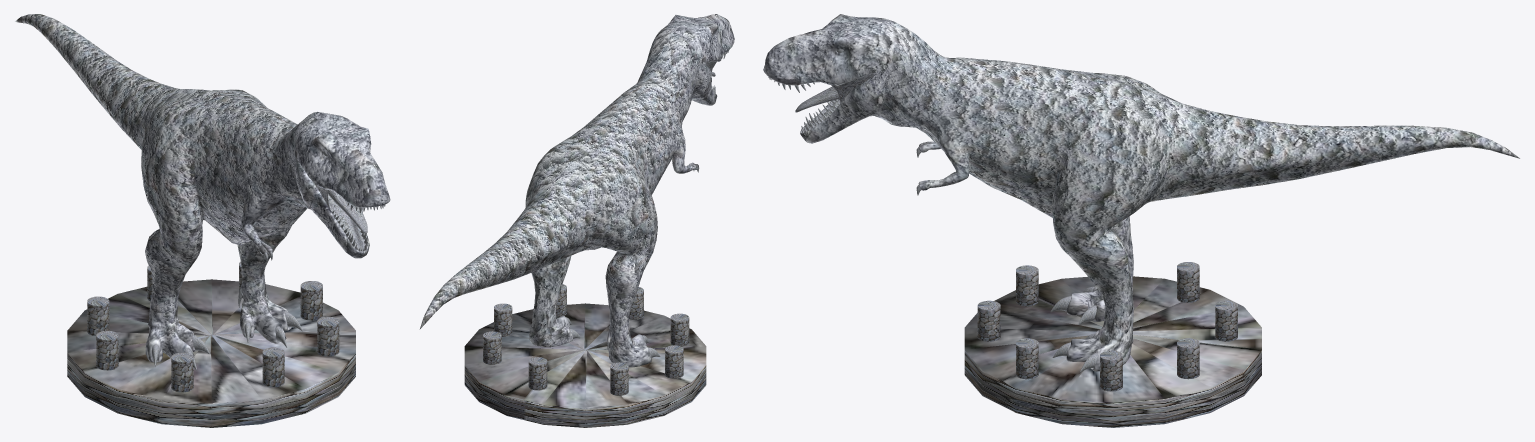
Rendered from escult.obj.
The picture shows the model from 3 angles, left to right: view 1: azimuth 30°, elevation 25°; view 2: azimuth 150°, elevation 25°; view 3: azimuth 270°, elevation 25°; orthographic projection. The views are drawn at different scales.
Parts seen in each view (by area): view 1: Group002, Cylinder012, Cylinder003, Cylinder004, Cylinder010, Cylinder002, Cylinder005, Cylinder011, treeGroup26643, treeGroup23113; view 2: Group002, Cylinder012, Cylinder008, Cylinder004, Cylinder010, Cylinder006, Cylinder011, Cylinder005, Cylinder002; view 3: Group002, Cylinder012, Cylinder002, Cylinder008, Cylinder003, Cylinder005, Cylinder006, Cylinder004, Cylinder011.
Boxes of the visible parts, bbox=[...] form: Group002: bbox=[15, 14, 390, 362]; Cylinder012: bbox=[67, 279, 355, 427]; Cylinder003: bbox=[317, 316, 339, 356]; Cylinder004: bbox=[171, 352, 193, 392]; Cylinder010: bbox=[96, 330, 118, 370]; Cylinder002: bbox=[262, 347, 284, 386]; Cylinder005: bbox=[300, 281, 322, 320]; Cylinder011: bbox=[87, 296, 109, 335]; treeGroup26643: bbox=[328, 194, 365, 250]; treeGroup23113: bbox=[328, 190, 367, 234]; Group002: bbox=[419, 14, 734, 367]; Cylinder012: bbox=[464, 303, 706, 427]; Cylinder008: bbox=[528, 357, 547, 390]; Cylinder004: bbox=[670, 313, 689, 346]; Cylinder010: bbox=[665, 345, 683, 378]; Cylinder006: bbox=[483, 331, 501, 364]; Cylinder011: bbox=[610, 362, 628, 395]; Cylinder005: bbox=[494, 303, 512, 336]; Cylinder002: bbox=[629, 287, 643, 319]; Group002: bbox=[763, 14, 1519, 371]; Cylinder012: bbox=[964, 276, 1261, 427]; Cylinder002: bbox=[977, 300, 1000, 341]; Cylinder008: bbox=[1215, 300, 1237, 341]; Cylinder003: bbox=[1016, 338, 1038, 379]; Cylinder005: bbox=[1100, 350, 1122, 391]; Cylinder006: bbox=[1177, 338, 1199, 379]; Cylinder004: bbox=[1016, 265, 1038, 306]; Cylinder011: bbox=[1177, 262, 1199, 302].
Size of the model in its own units: 203 by 255 by 510.
Materials: 2 (2 with a texture image).
